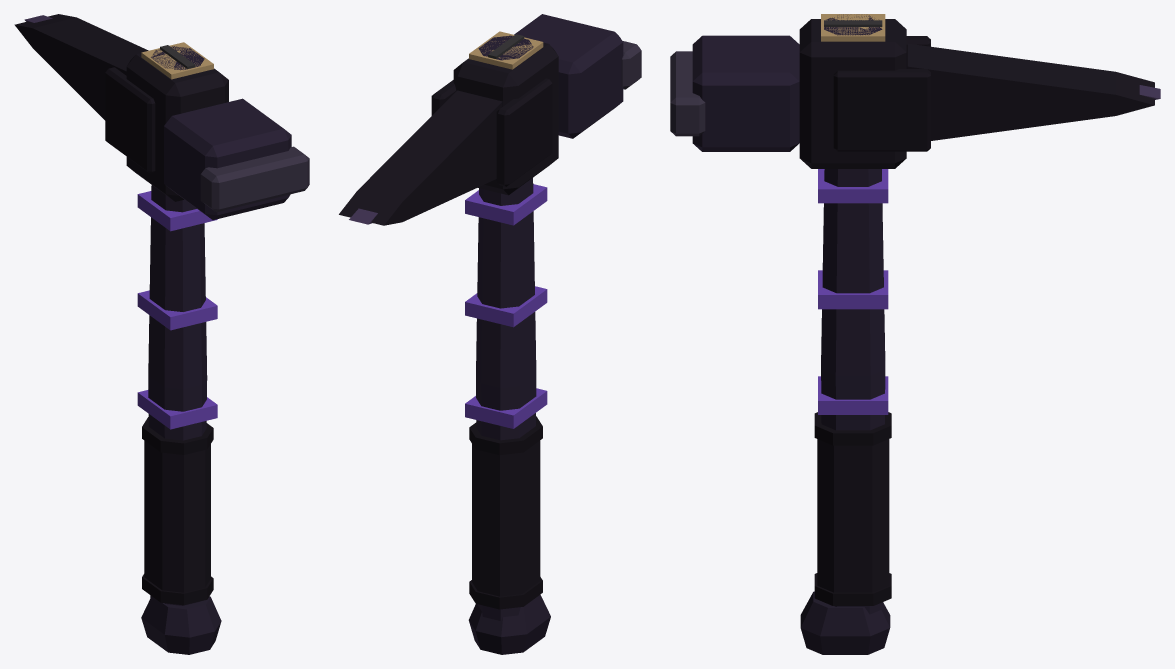
Rendered from ObsidianPick.glb.
3 renders of one model, left to right at view 1: azimuth 30°, elevation 25°; view 2: azimuth 150°, elevation 25°; view 3: azimuth 270°, elevation 25°, orthographic. The views are drawn at different scales.
Parts seen in each view (by area): view 1: Handle, Head; view 2: Handle, Head; view 3: Head, Handle.
Part boxes in pixels (x1,y1,x2,y2): Handle: (137,42,221,654); Head: (14,14,309,219); Handle: (465,31,550,654); Head: (339,14,641,225); Head: (670,19,1160,168); Handle: (800,14,891,654).
Size of the model in its own units: 0.62 by 3.51 by 2.52.
